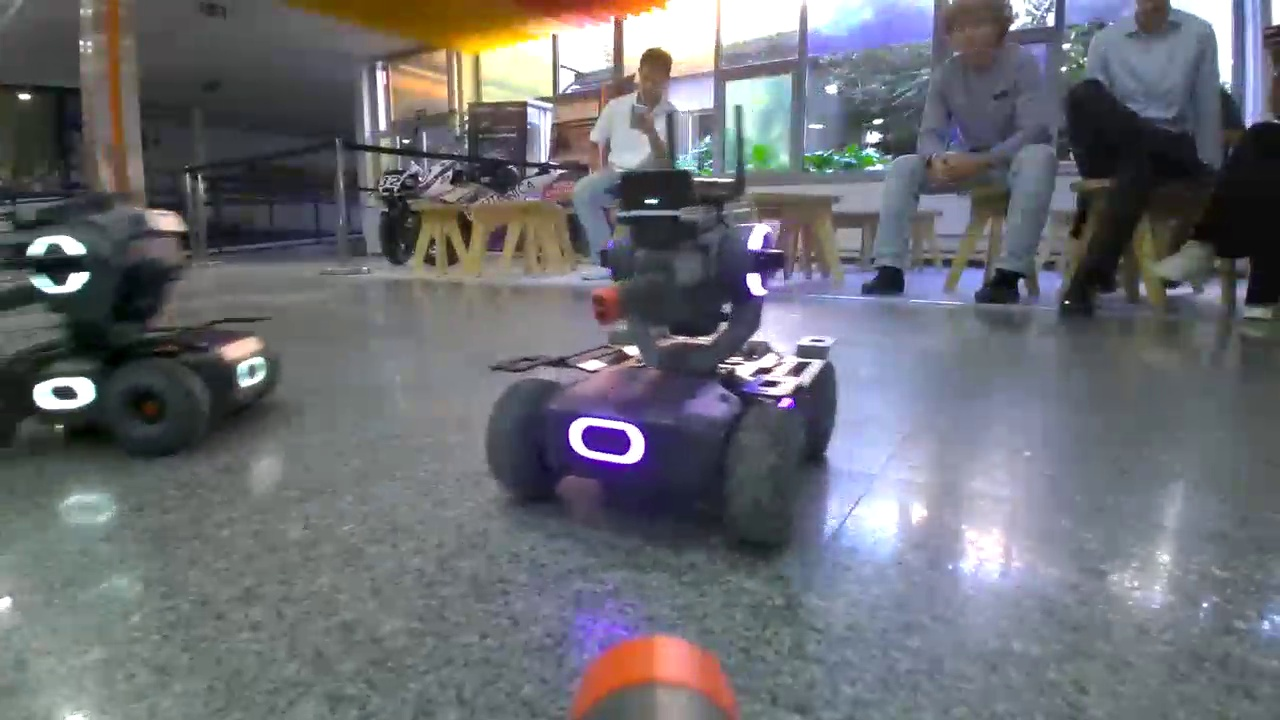robot: (485, 172, 835, 550), (1, 200, 275, 455)
